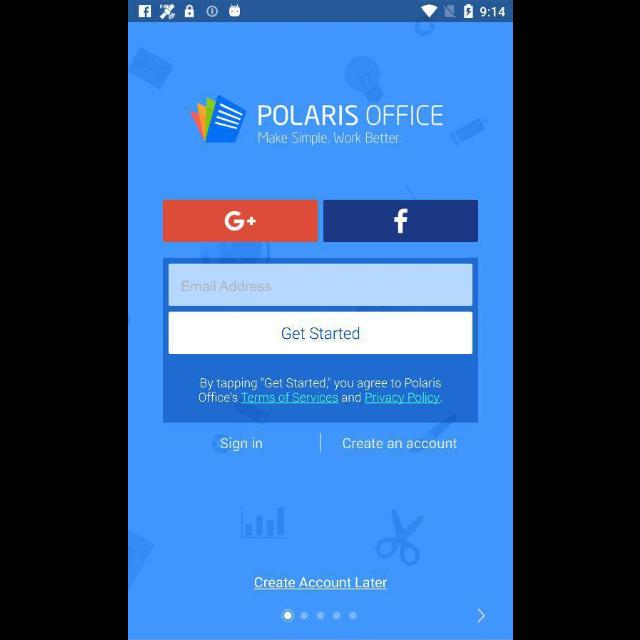icon: (474, 606, 486, 624)
image: (189, 94, 443, 148)
input: (168, 264, 472, 308)
pageindicator: (280, 608, 358, 622)
text: (198, 378, 442, 406), (253, 577, 387, 591), (341, 437, 457, 449), (181, 280, 271, 292), (220, 438, 262, 452)
textbutton: (168, 313, 472, 355), (162, 200, 318, 242), (323, 201, 477, 243)
uppertaskbar: (128, 1, 512, 23)
